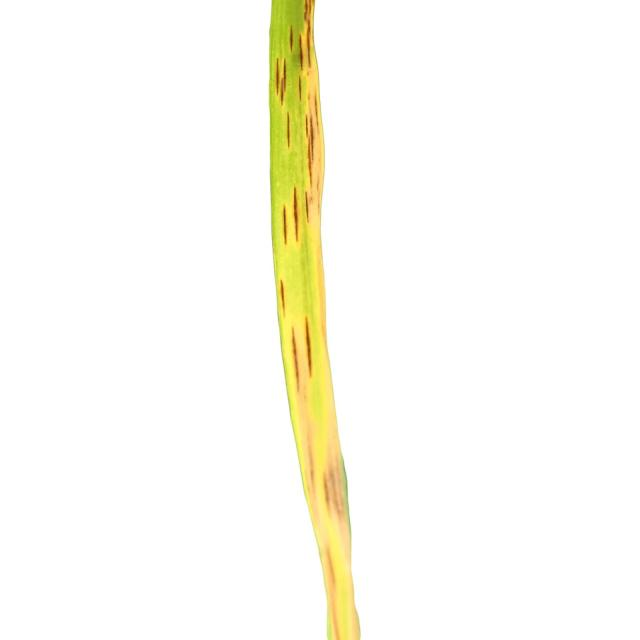Narrow brown: (194, 0, 424, 640)
